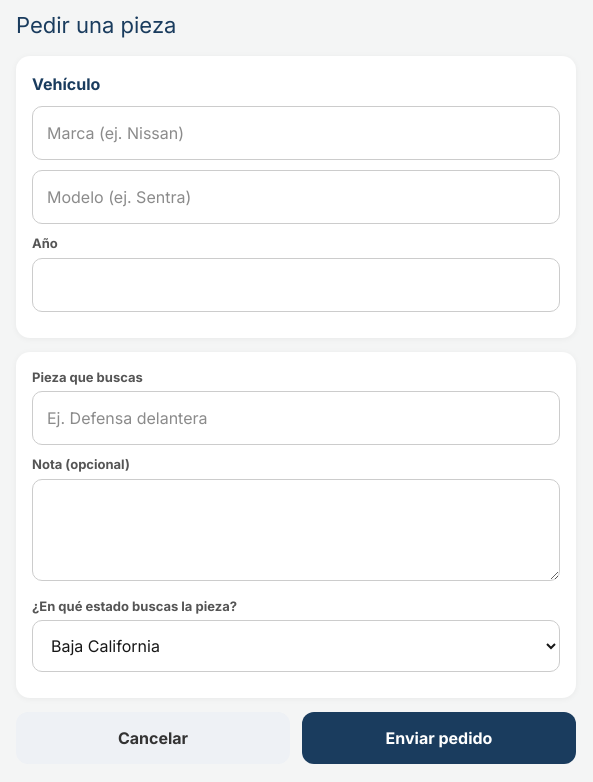
Test: Pedir una pieza: formulario nuevo › sin marca/modelo/pieza, muestra el primer error y no envía
Click the button "Enviar pedido" at (439, 738), box left=302, top=712, right=576, bottom=764
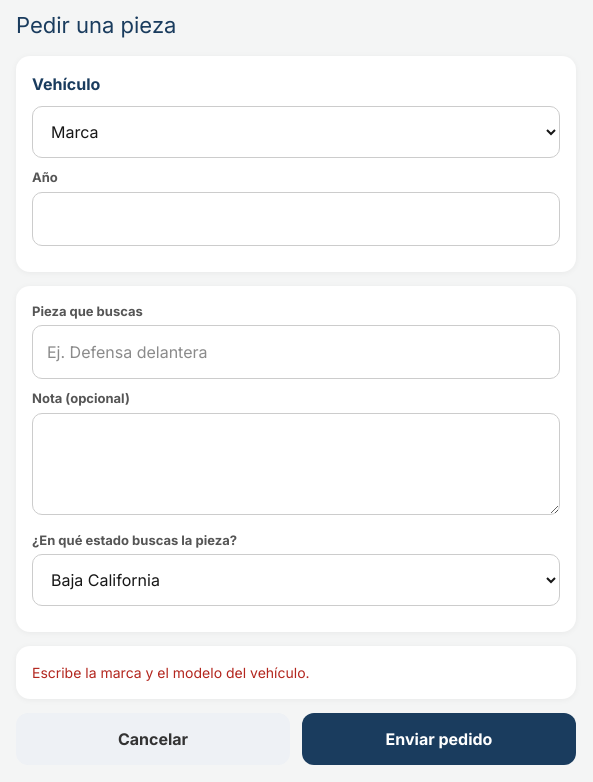
Expected: the message reads "Escribe la marca y el modelo del vehículo.", left=32, top=664, right=310, bottom=681
